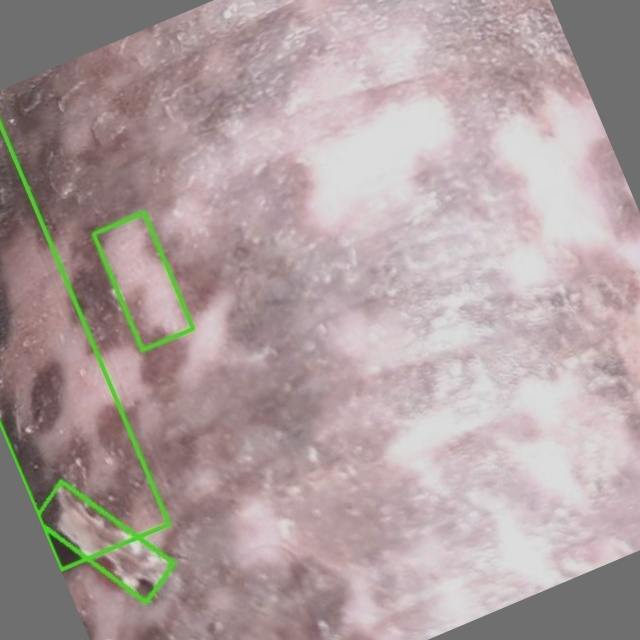Eczema: (0, 125, 168, 569), (36, 477, 175, 601), (93, 212, 193, 350)
